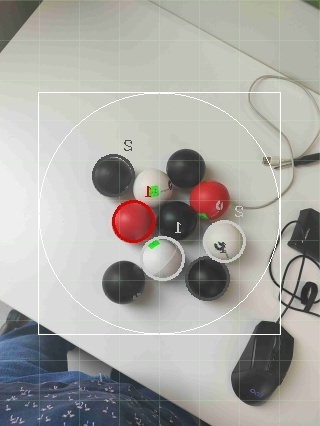Pelota blanca: (247, 73, 320, 160), (0, 0, 44, 54), (141, 233, 188, 280), (202, 220, 249, 264), (101, 260, 148, 304), (133, 166, 175, 200)
Pelota negra: (0, 334, 207, 425), (231, 324, 294, 408), (186, 254, 233, 302), (90, 153, 137, 198), (101, 260, 148, 304), (157, 198, 199, 240), (167, 148, 207, 190)
Pelota roja: (111, 198, 159, 246), (189, 177, 230, 219)
